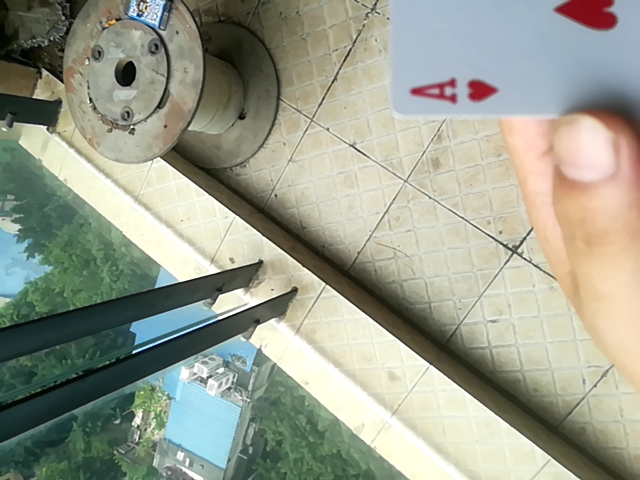hx a: (393, 1, 640, 123)
